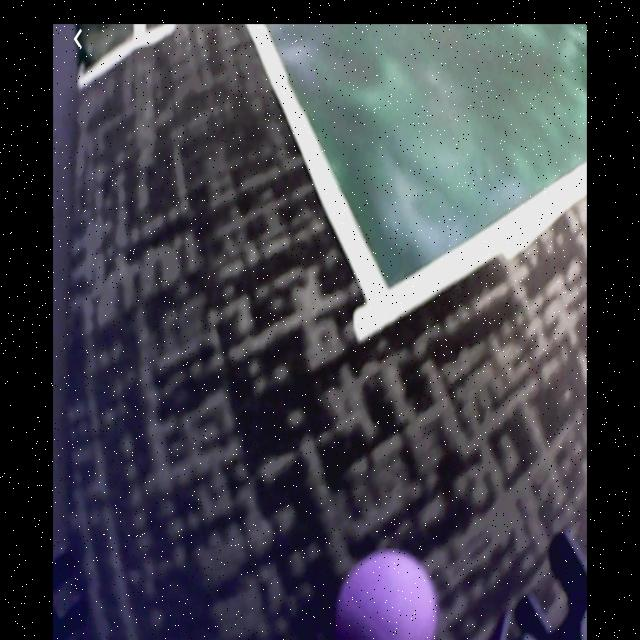ball: (338, 546, 444, 636)
